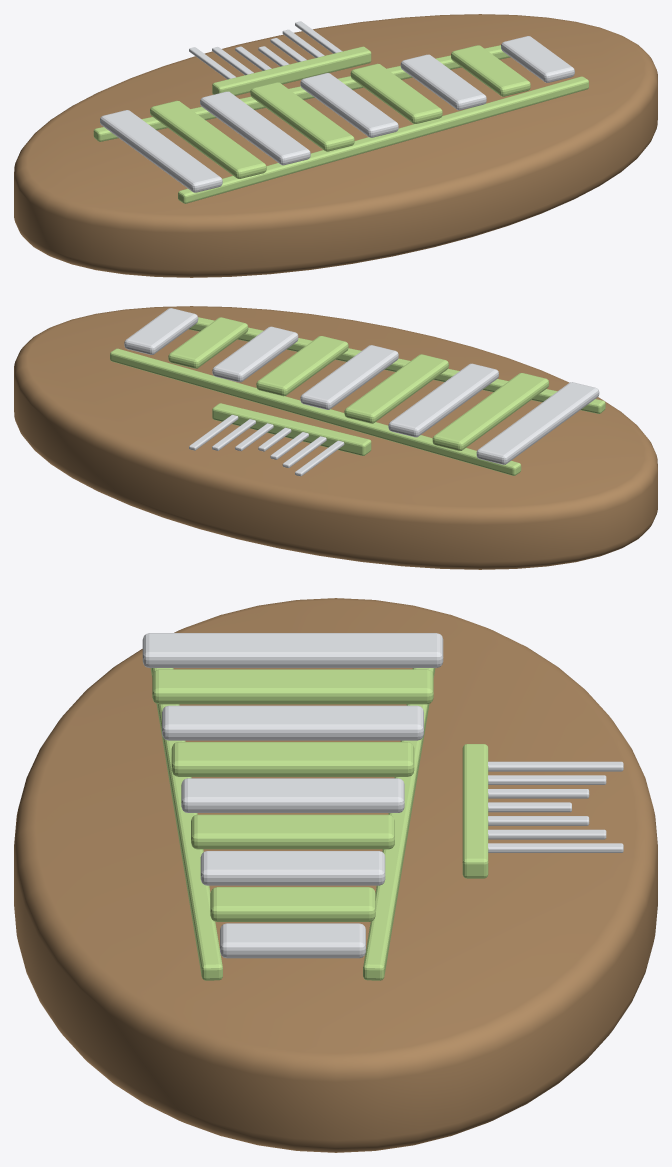
Rendered from Driftwood.glb.
3 renders of one model, top to bottom at view 1: azimuth 30°, elevation 25°; view 2: azimuth 150°, elevation 25°; view 3: azimuth 270°, elevation 25°, orthographic. The views are drawn at different scales.
Visible parts, largest first — view 1: Driftwood_Body, Driftwood_Rail-1, Driftwood_Bar0, Driftwood_Bar1, Driftwood_Bar2, Driftwood_Bar3, Driftwood_Bridge, Driftwood_Bar4, Driftwood_Bar5, Driftwood_Bar6, Driftwood_Bar7, Driftwood_Bar8 (+3 smaller); view 2: Driftwood_Body, Driftwood_Rail1, Driftwood_Bar0, Driftwood_Bar1, Driftwood_Bar2, Driftwood_Bar3, Driftwood_Bar4, Driftwood_Bar5, Driftwood_Bridge, Driftwood_Bar6, Driftwood_Bar7, Driftwood_Bar8 (+3 smaller); view 3: Driftwood_Body, Driftwood_Bar0, Driftwood_Bar1, Driftwood_Bar2, Driftwood_Bar3, Driftwood_Bar4, Driftwood_Bar5, Driftwood_Bar6, Driftwood_Bar7, Driftwood_Bar8, Driftwood_Rail1, Driftwood_Rail-1 (+8 smaller).
Part boxes in pixels (box(x1,y1,x2,y2)): Driftwood_Body: box(14, 14, 657, 277); Driftwood_Rail-1: box(178, 76, 588, 203); Driftwood_Bar0: box(100, 110, 222, 192); Driftwood_Bar1: box(150, 100, 266, 178); Driftwood_Bar2: box(200, 91, 310, 165); Driftwood_Bar3: box(250, 82, 354, 151); Driftwood_Bridge: box(212, 46, 371, 95); Driftwood_Bar4: box(300, 73, 398, 137); Driftwood_Bar5: box(350, 63, 442, 123); Driftwood_Bar6: box(400, 54, 486, 110); Driftwood_Bar7: box(451, 45, 530, 96); Driftwood_Bar8: box(501, 36, 574, 82); Driftwood_Body: box(14, 306, 657, 569); Driftwood_Rail1: box(110, 348, 521, 475); Driftwood_Bar0: box(476, 382, 599, 464); Driftwood_Bar1: box(432, 373, 548, 450); Driftwood_Bar2: box(388, 363, 498, 437); Driftwood_Bar3: box(344, 354, 448, 423); Driftwood_Bar4: box(300, 345, 398, 409); Driftwood_Bar5: box(256, 336, 348, 396); Driftwood_Bridge: box(212, 403, 371, 455); Driftwood_Bar6: box(212, 326, 298, 382); Driftwood_Bar7: box(168, 317, 248, 368); Driftwood_Bar8: box(124, 308, 198, 354); Driftwood_Body: box(14, 598, 657, 1152); Driftwood_Bar0: box(142, 633, 443, 667); Driftwood_Bar1: box(152, 669, 433, 704); Driftwood_Bar2: box(162, 705, 423, 740); Driftwood_Bar3: box(171, 742, 414, 776); Driftwood_Bar4: box(181, 778, 404, 812); Driftwood_Bar5: box(191, 814, 394, 849); Driftwood_Bar6: box(200, 851, 385, 885); Driftwood_Bar7: box(210, 887, 375, 921); Driftwood_Bar8: box(220, 923, 365, 958); Driftwood_Rail1: box(363, 668, 435, 980); Driftwood_Rail-1: box(150, 668, 222, 980).
Bounding box in the file's own units: 0.52 × 0.07 × 0.3.
